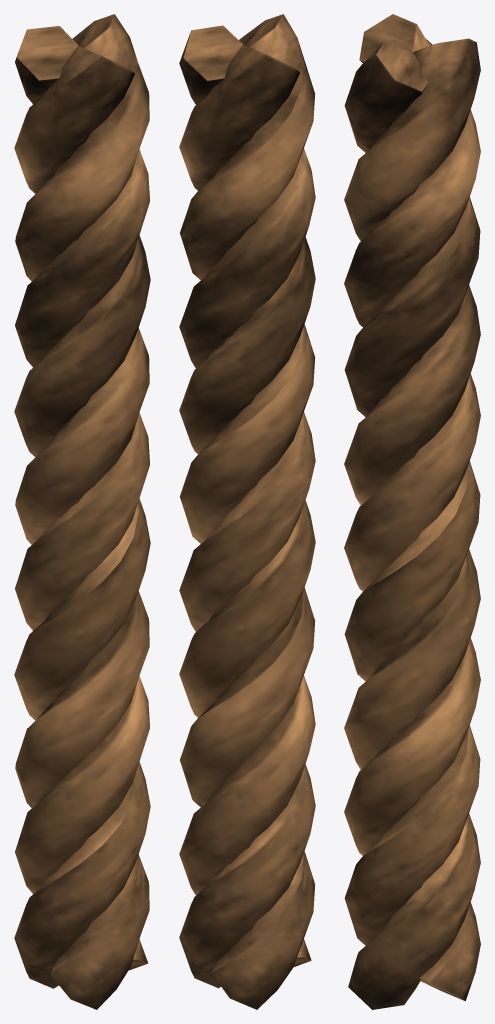
File: SM_Rope_02 1.fbx
3 views of the same model, side by side, from view 1: azimuth 30°, elevation 25°; view 2: azimuth 150°, elevation 25°; view 3: azimuth 330°, elevation 25° (orthographic).
Visible parts, largest first — view 1: Spring002; view 2: Spring002; view 3: Spring002.
Boxes of the visible parts, x1,y1,x2,y2 form: Spring002: (14, 14, 150, 1009); Spring002: (179, 14, 315, 1009); Spring002: (344, 14, 480, 1009).
Size of the model in its own units: 188 by 188 by 1451.
